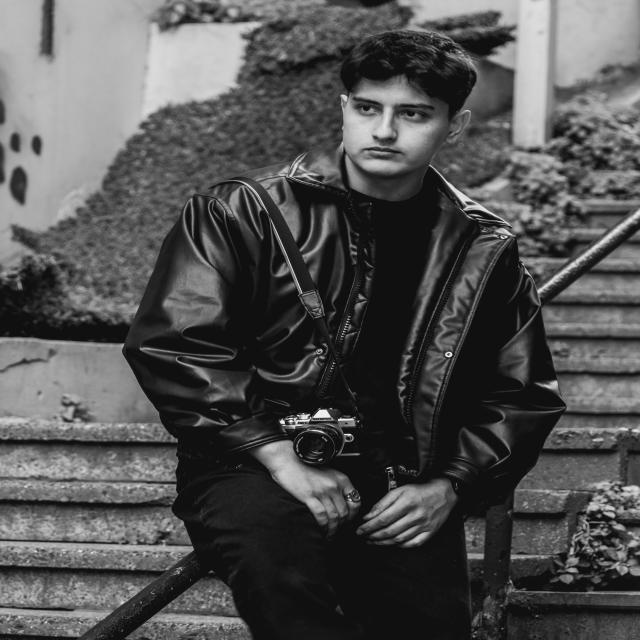human: (118, 27, 569, 640)
